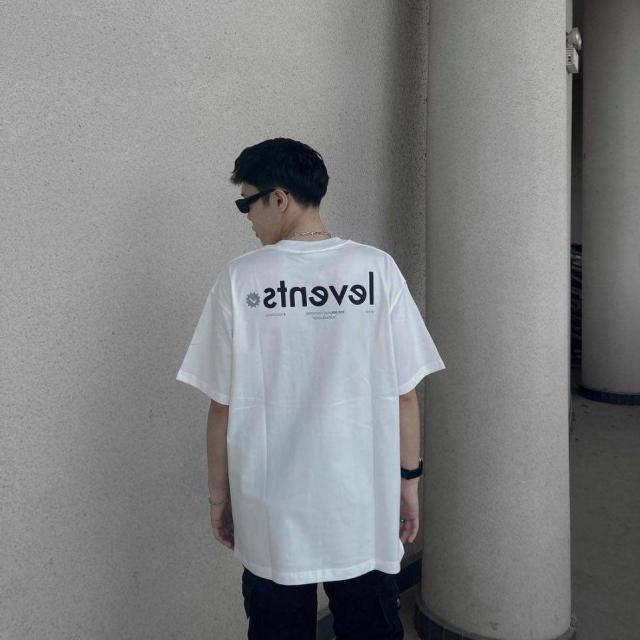Standing: (184, 116, 443, 640)
